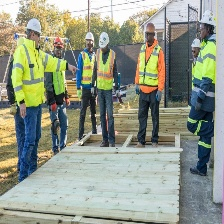helmet: (24, 18, 43, 33), (198, 12, 216, 27), (53, 39, 65, 59), (98, 31, 111, 48), (82, 31, 98, 43), (144, 22, 158, 35)
person: (15, 17, 45, 185), (189, 10, 215, 179), (134, 20, 167, 151), (96, 30, 120, 149), (46, 37, 69, 151), (78, 32, 96, 141)
vest: (12, 43, 47, 108), (196, 36, 217, 114), (136, 41, 163, 91), (97, 49, 115, 89), (80, 47, 95, 84)
